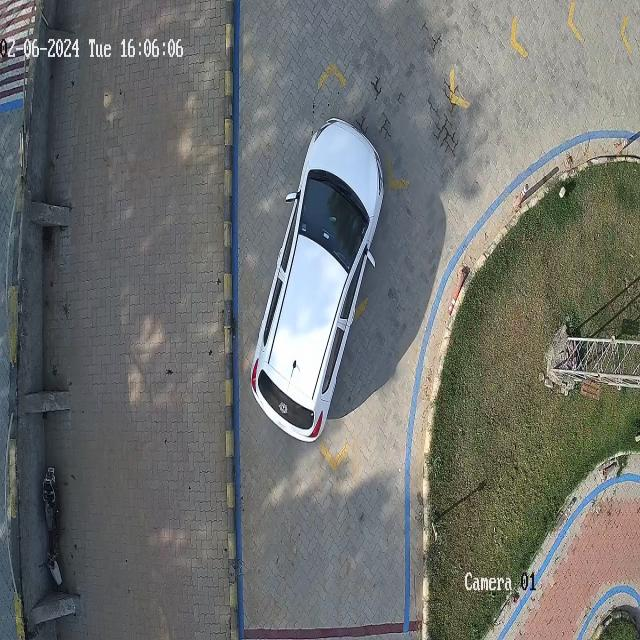car: (251, 120, 384, 442)
